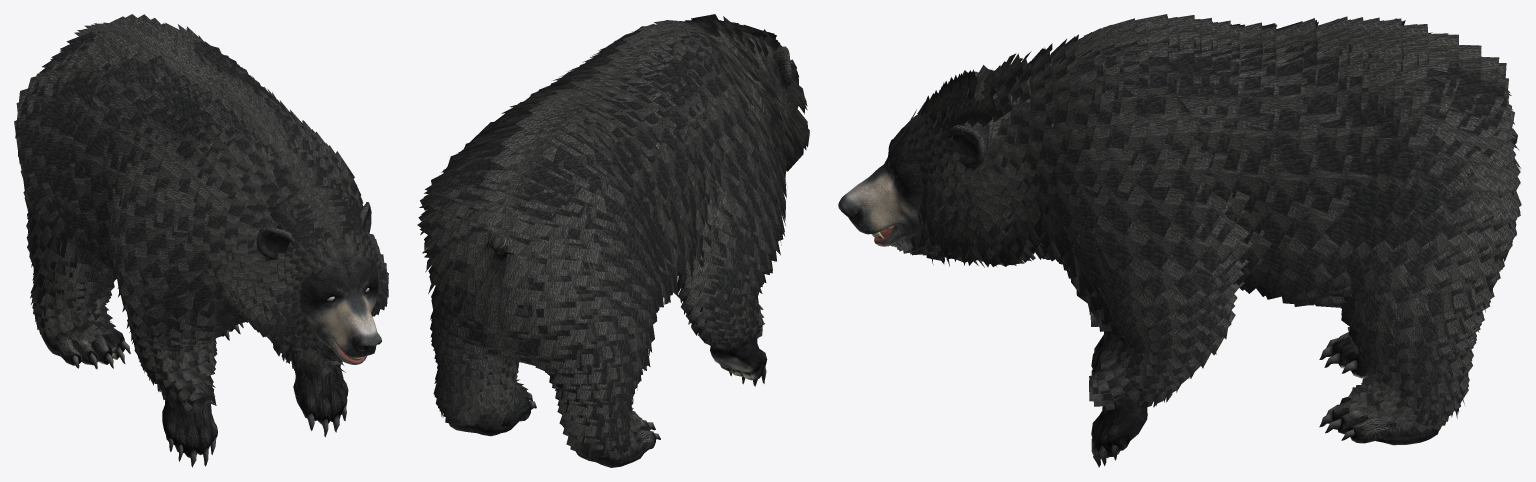
The model's file is bear.fbx.
3 views of the same model, side by side, from view 1: azimuth 30°, elevation 25°; view 2: azimuth 150°, elevation 25°; view 3: azimuth 270°, elevation 25° (orthographic). The views are drawn at different scales.
Visible parts, largest first — view 1: Bear:Mesh; view 2: Bear:Mesh; view 3: Bear:Mesh.
Part boxes in pixels (box(x1,y1,x2,y2)): Bear:Mesh: box(14, 14, 388, 467); Bear:Mesh: box(417, 14, 809, 467); Bear:Mesh: box(838, 14, 1521, 467).
Bounding box in the file's own units: 2.04 × 2.91 × 4.43.
